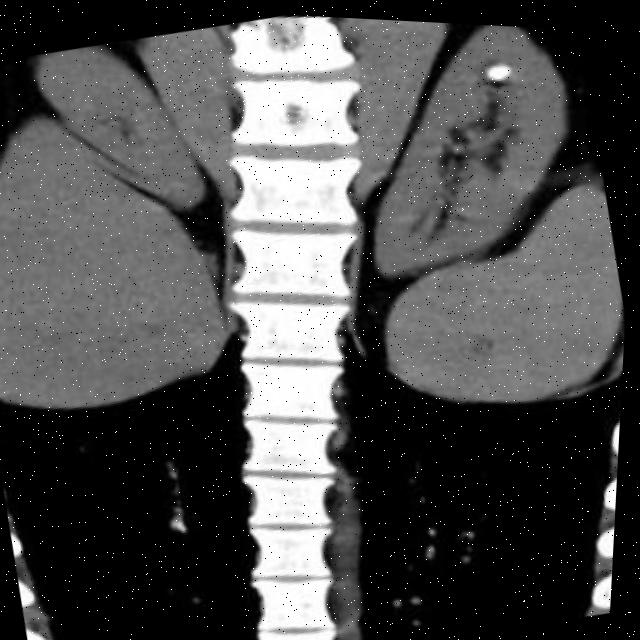Tas_Var: (484, 50, 519, 83)
